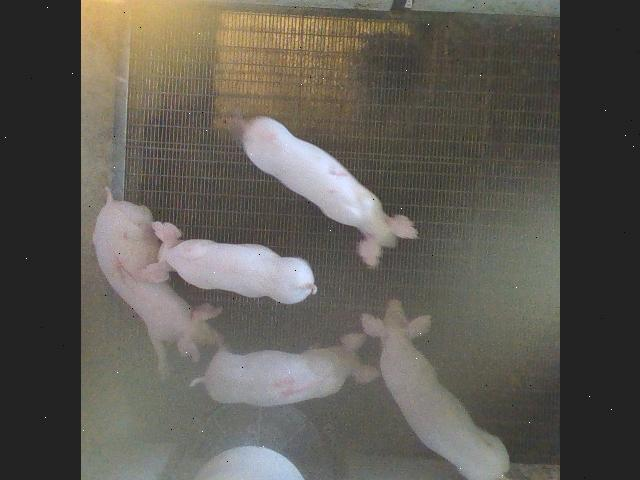pig-1: (93, 191, 221, 375)
pig-4: (191, 334, 379, 406)
